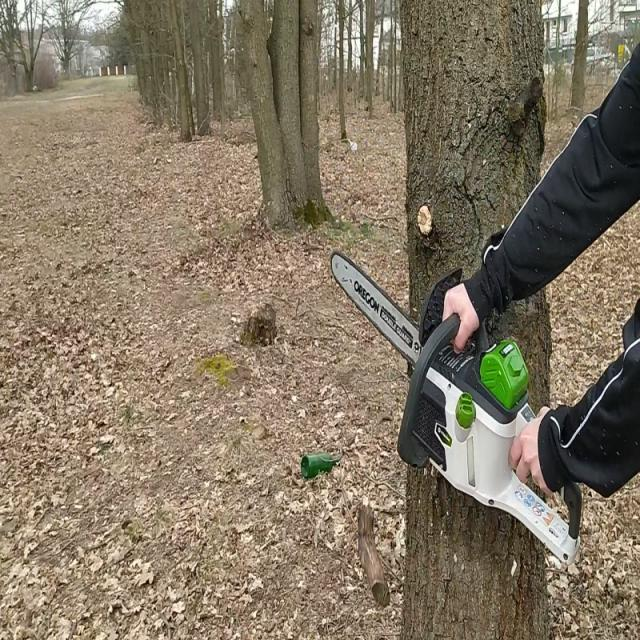Chainsaw: (324, 249, 588, 566)
